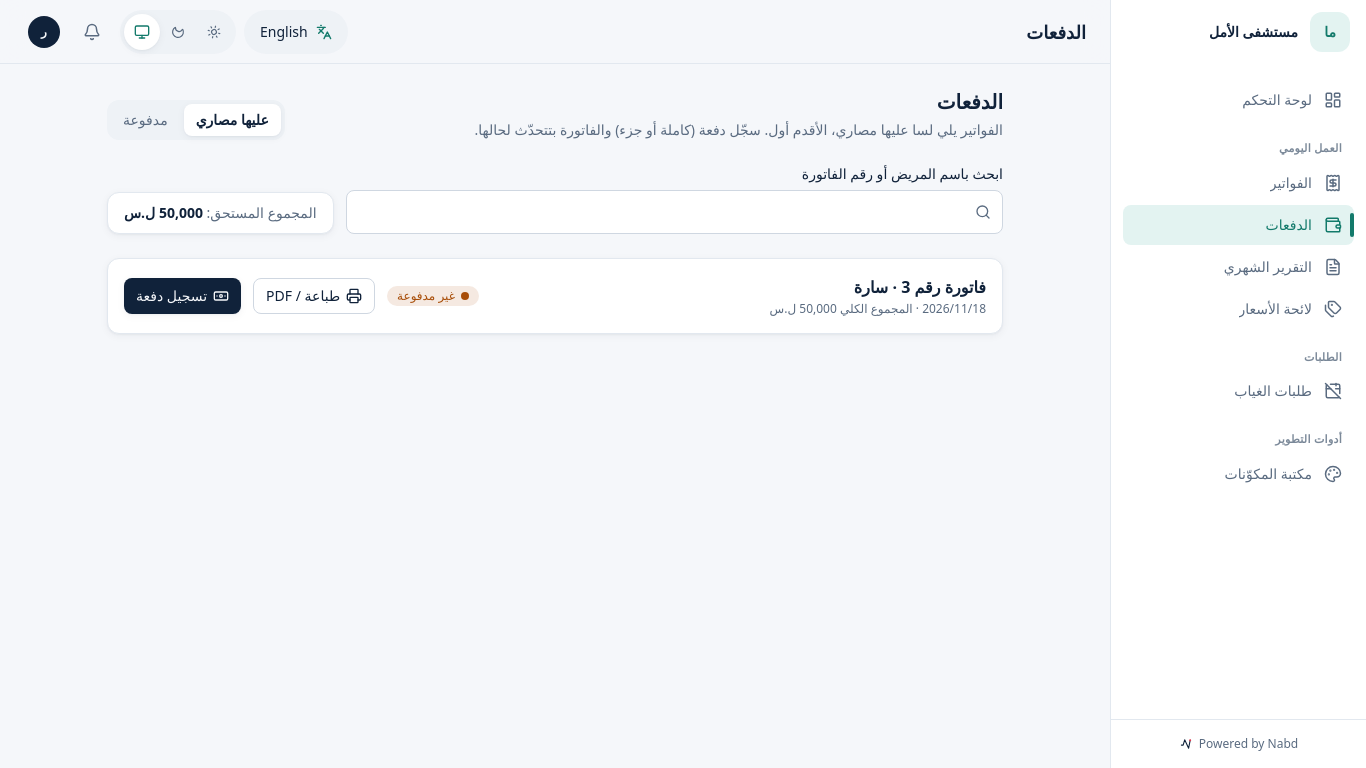
it: PaymentsPage (task 4.14) › records part of a payment; the invoice shows what is still due
Click the button "تسجيل دفعة" at (183, 296), box [124,278,241,314]
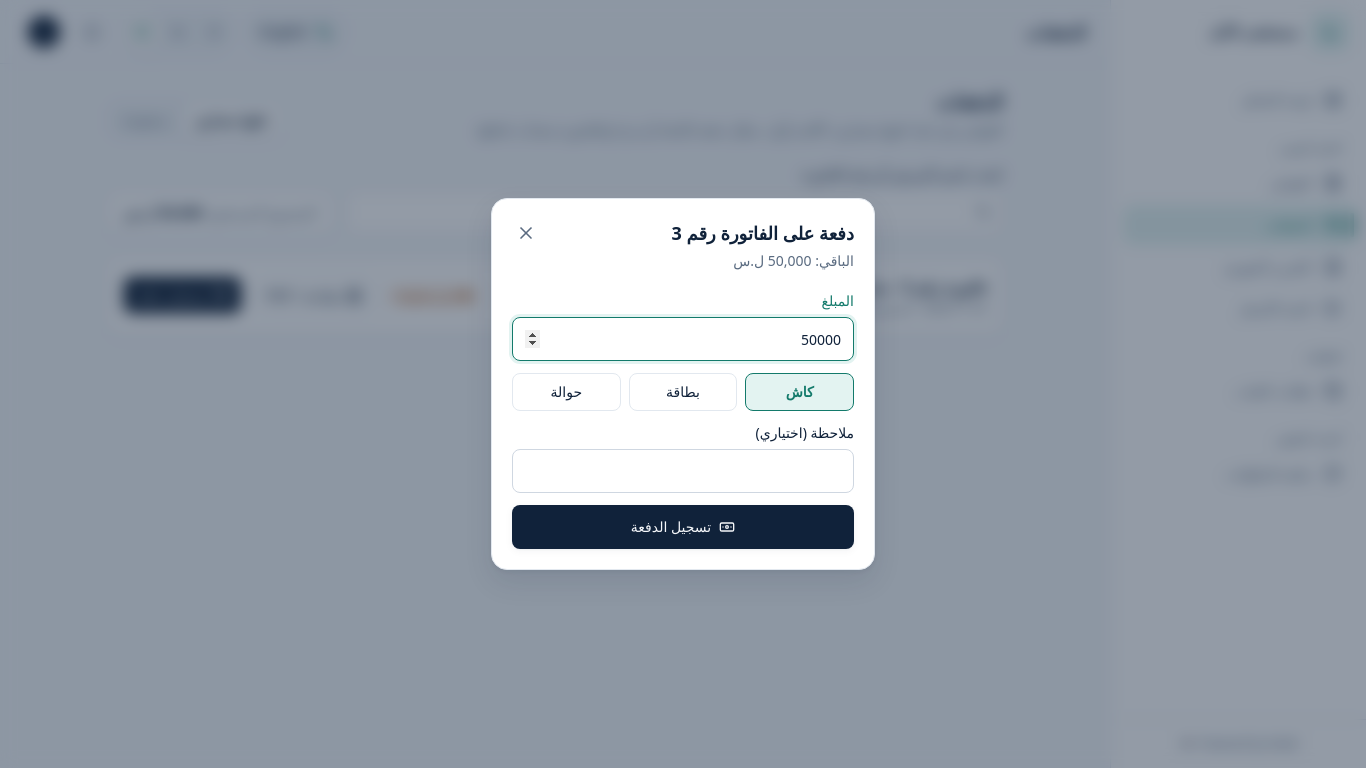
Now the number field labelled "المبلغ" holds "50000"
Replace the text in the number field labelled "المبلغ" with "60000" at (683, 339), box [512,317,854,361]
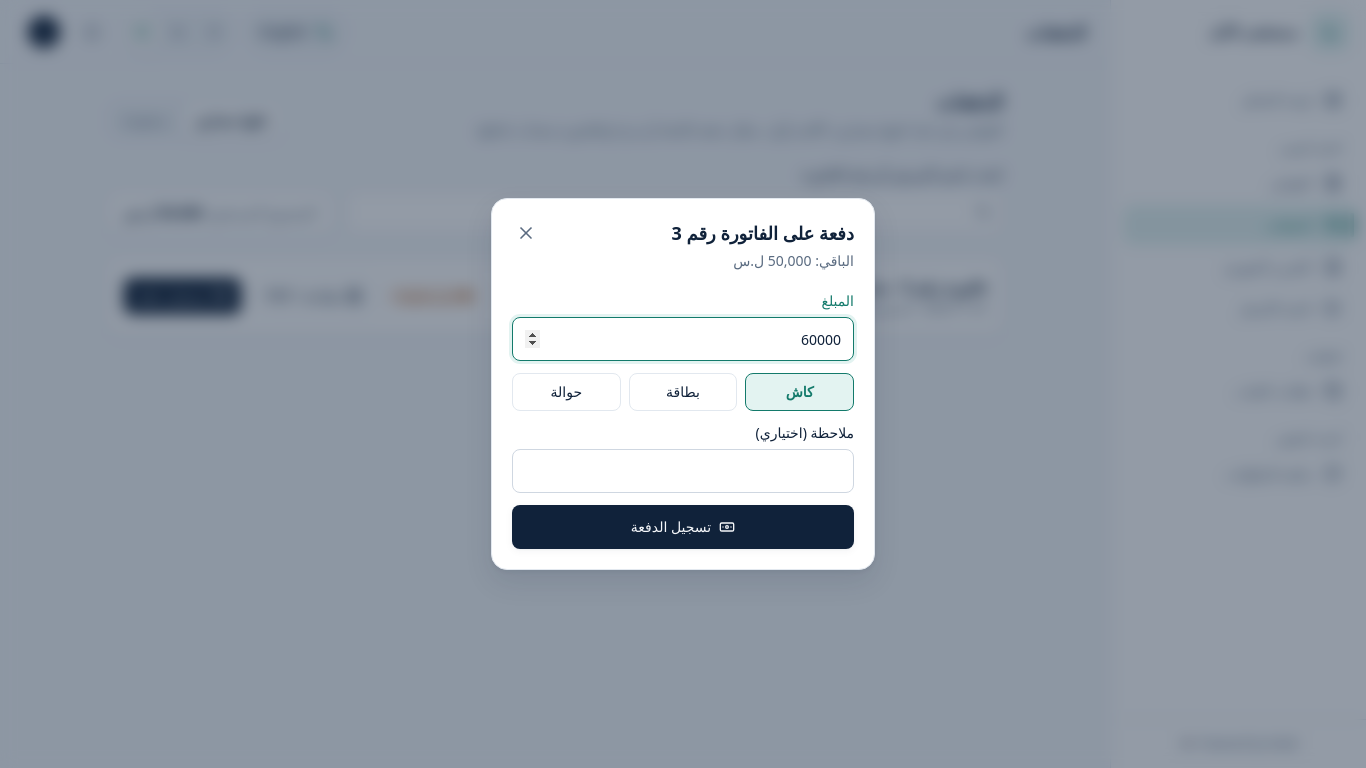
Click the button "تسجيل الدفعة" at (683, 527), box [512,505,854,549]
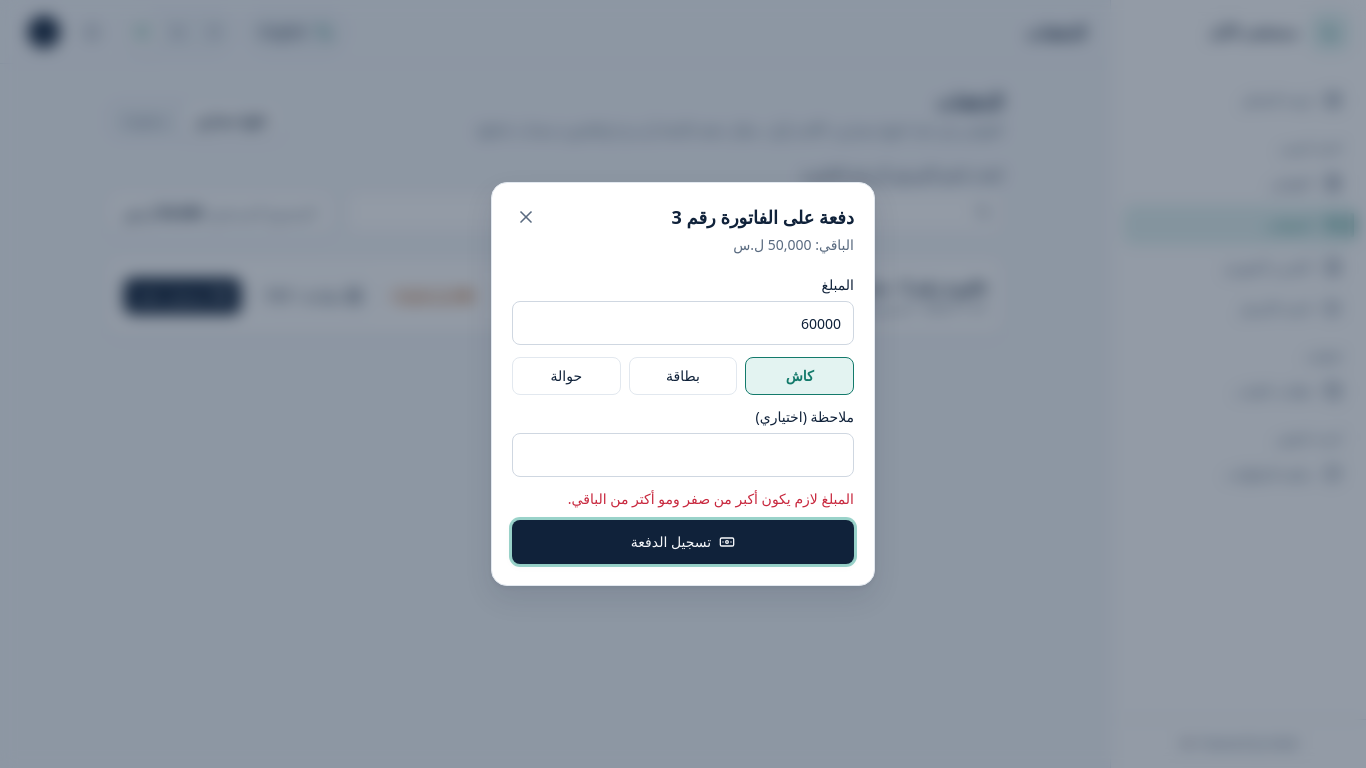
Now the message "المبلغ لازم يكون أكبر من صفر ومو أكتر من الباقي." is shown, box [568,489,854,508]
Replace the text in the number field labelled "المبلغ" with "20000" at (683, 323), box [512,301,854,345]
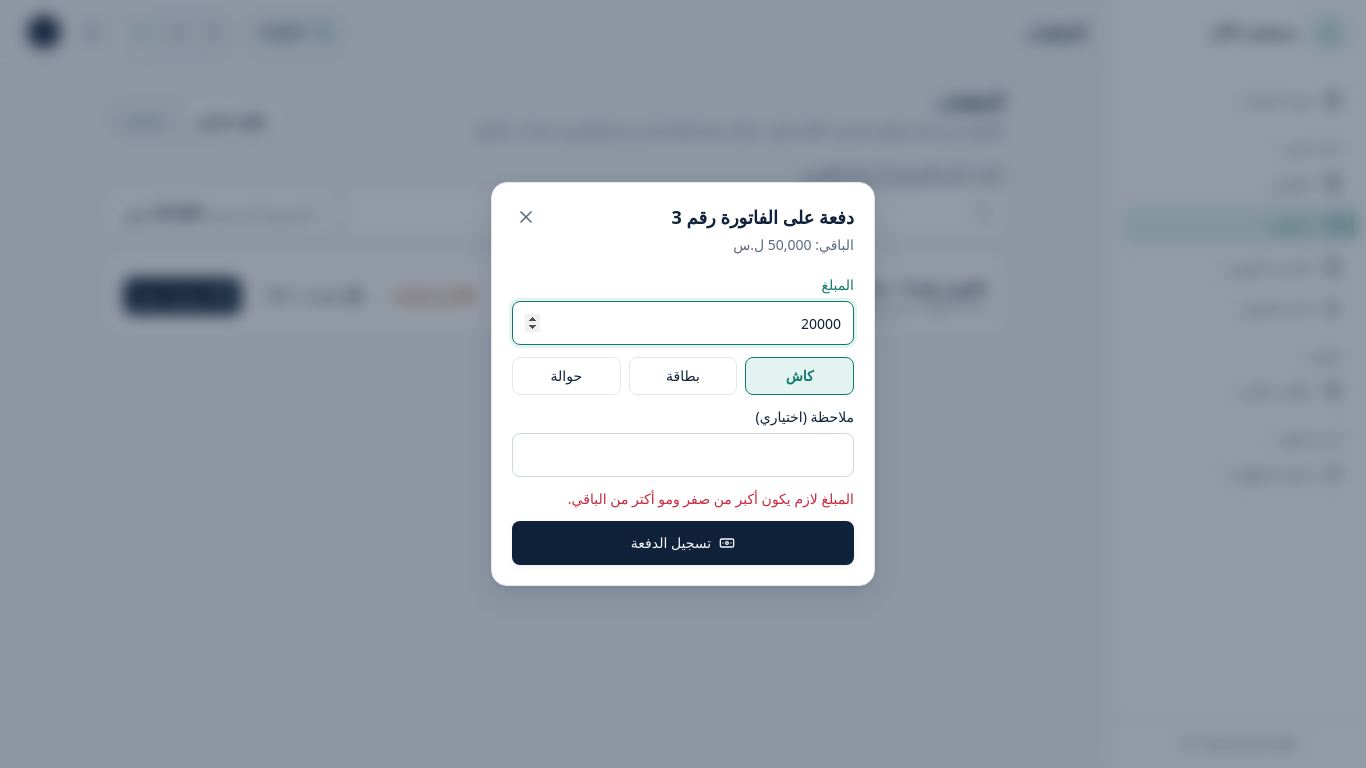
Click the radio button labelled "بطاقة" at (683, 376), box [629,357,737,395]
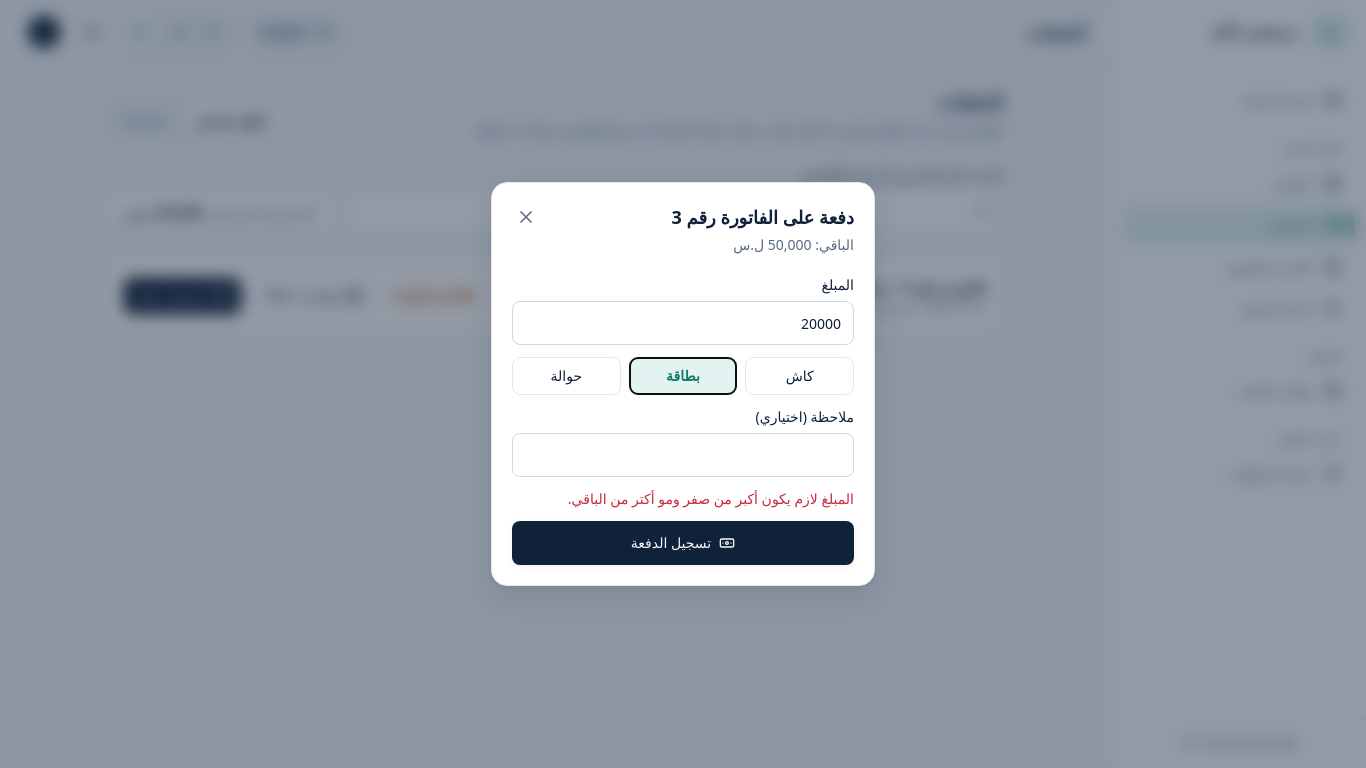
Click the button "تسجيل الدفعة" at (683, 543), box [512,521,854,565]
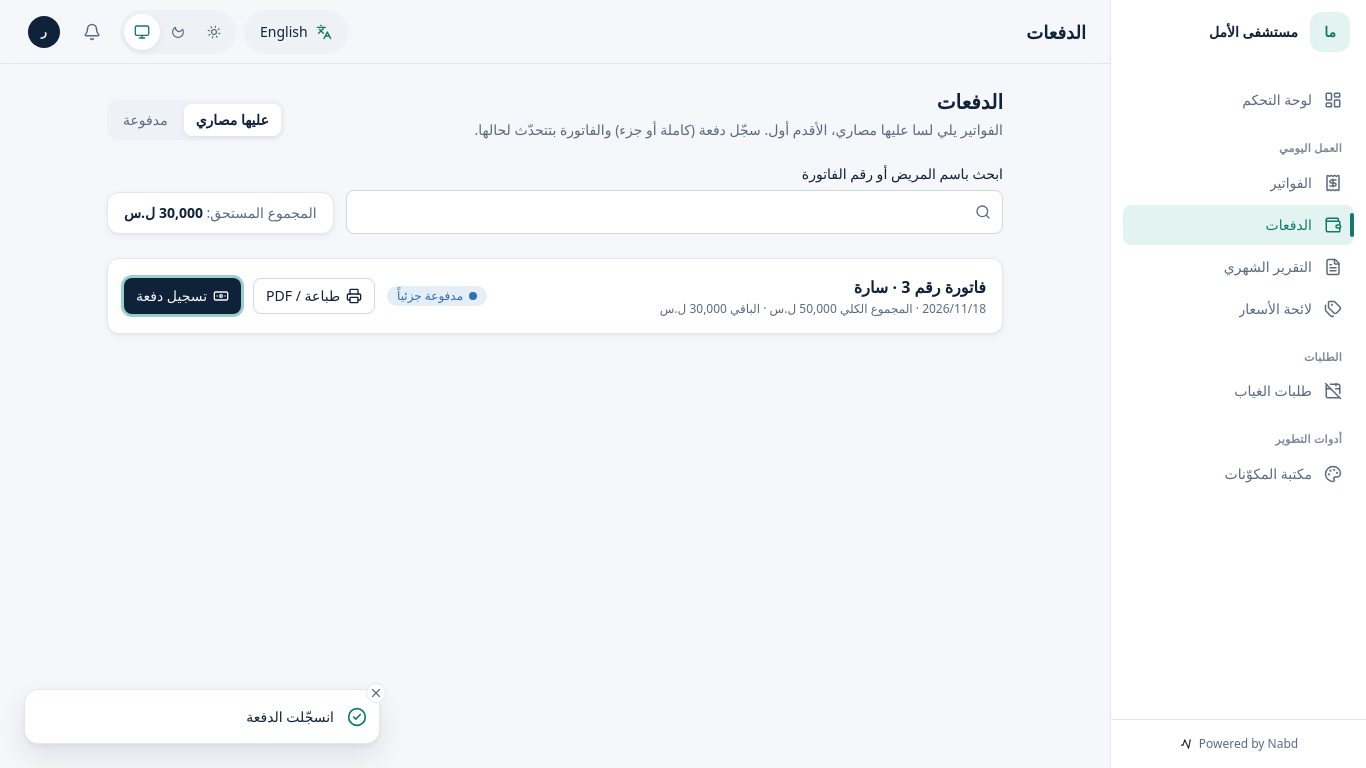
Now the text "مدفوعة جزئياً" is shown, box [387,286,487,306]
